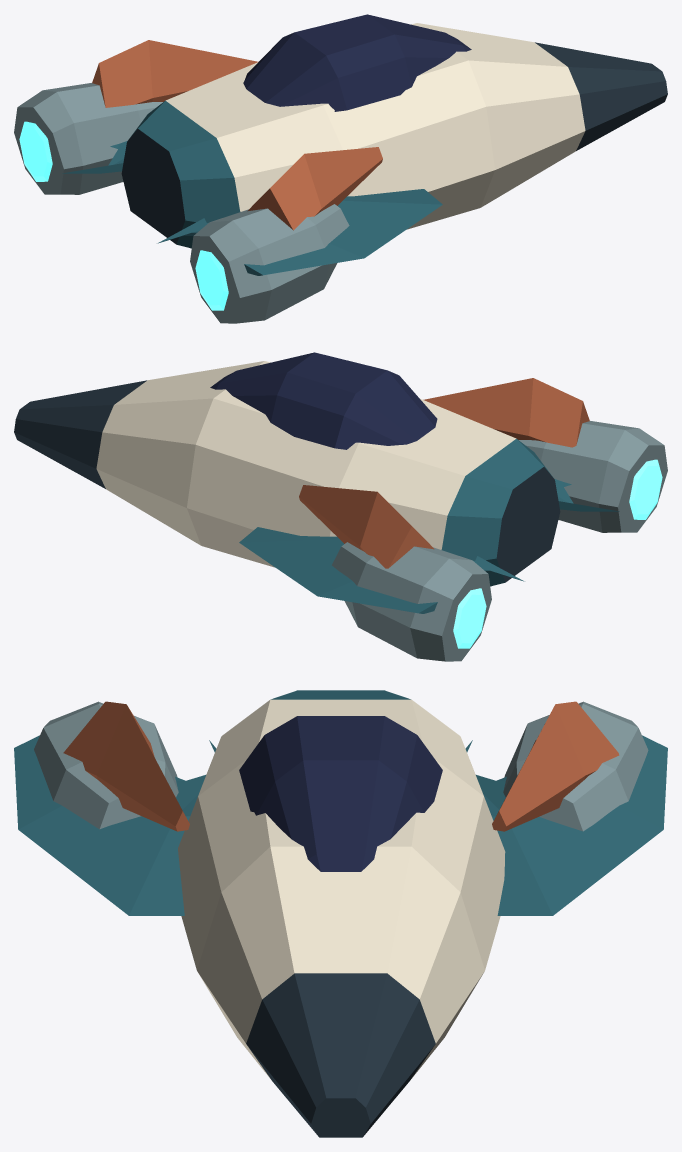
Rendered from service-shuttle.glb.
3 views of the same model, one above another, from view 1: azimuth 30°, elevation 25°; view 2: azimuth 150°, elevation 25°; view 3: azimuth 270°, elevation 25° (orthographic). The views are drawn at different scales.
Parts seen in each view (by area): view 1: service-shuttle; view 2: service-shuttle; view 3: service-shuttle.
Boxes of the visible parts, x1,y1,x2,y2 form: service-shuttle: (14, 14, 667, 323); service-shuttle: (14, 352, 667, 661); service-shuttle: (14, 690, 667, 1137).
Bounding box in the file's own units: 2.48 × 0.77 × 1.86.
